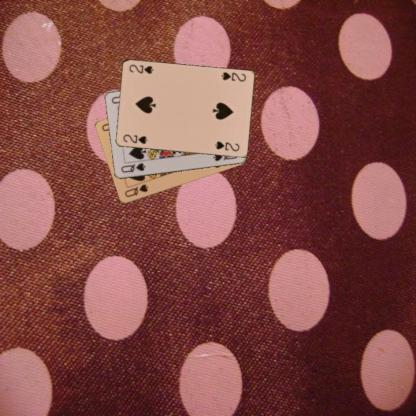2s: (218, 70, 247, 83), (121, 132, 148, 145)
Qs: (122, 181, 150, 199), (119, 161, 146, 174)
